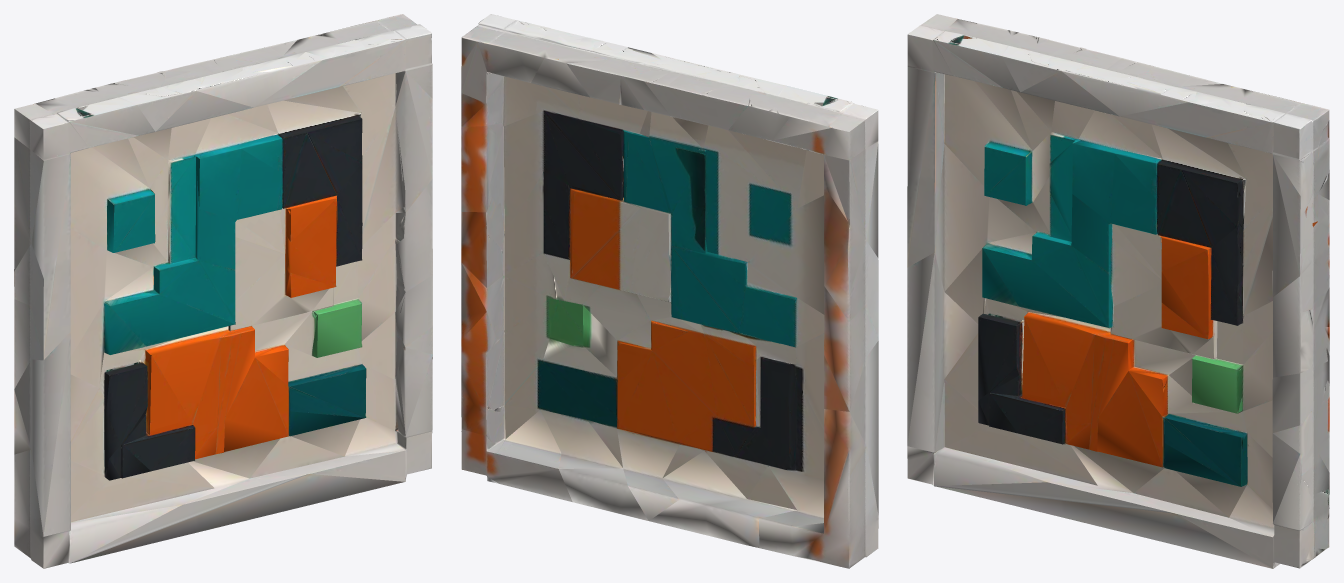
Rendered from geometric_wall_art.glb.
The picture shows the model from 3 angles, left to right: view 1: azimuth 30°, elevation 25°; view 2: azimuth 150°, elevation 25°; view 3: azimuth 330°, elevation 25°; orthographic projection.
Size of the model in its own units: 1.84 by 2 by 0.2422.
1 material, 1 textured.
